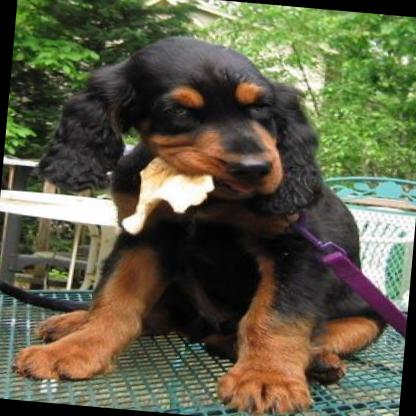Gordon_setter: (0, 22, 412, 416)
